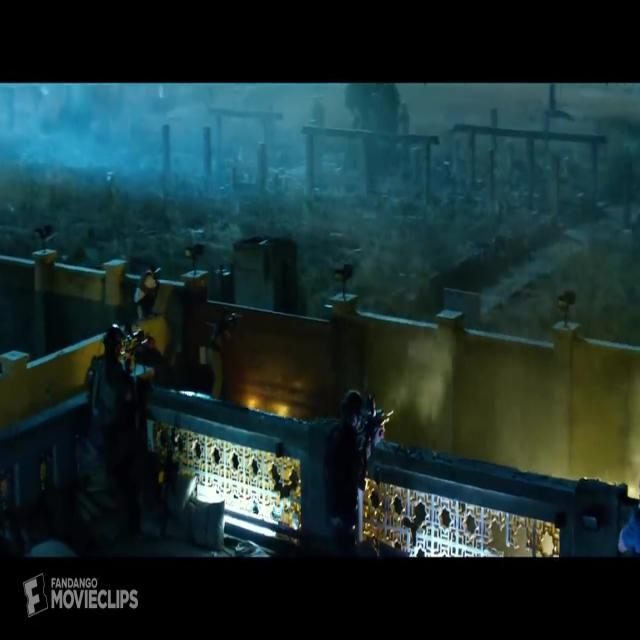Weapon: (342, 377, 441, 491), (105, 312, 189, 404), (202, 283, 266, 358)
